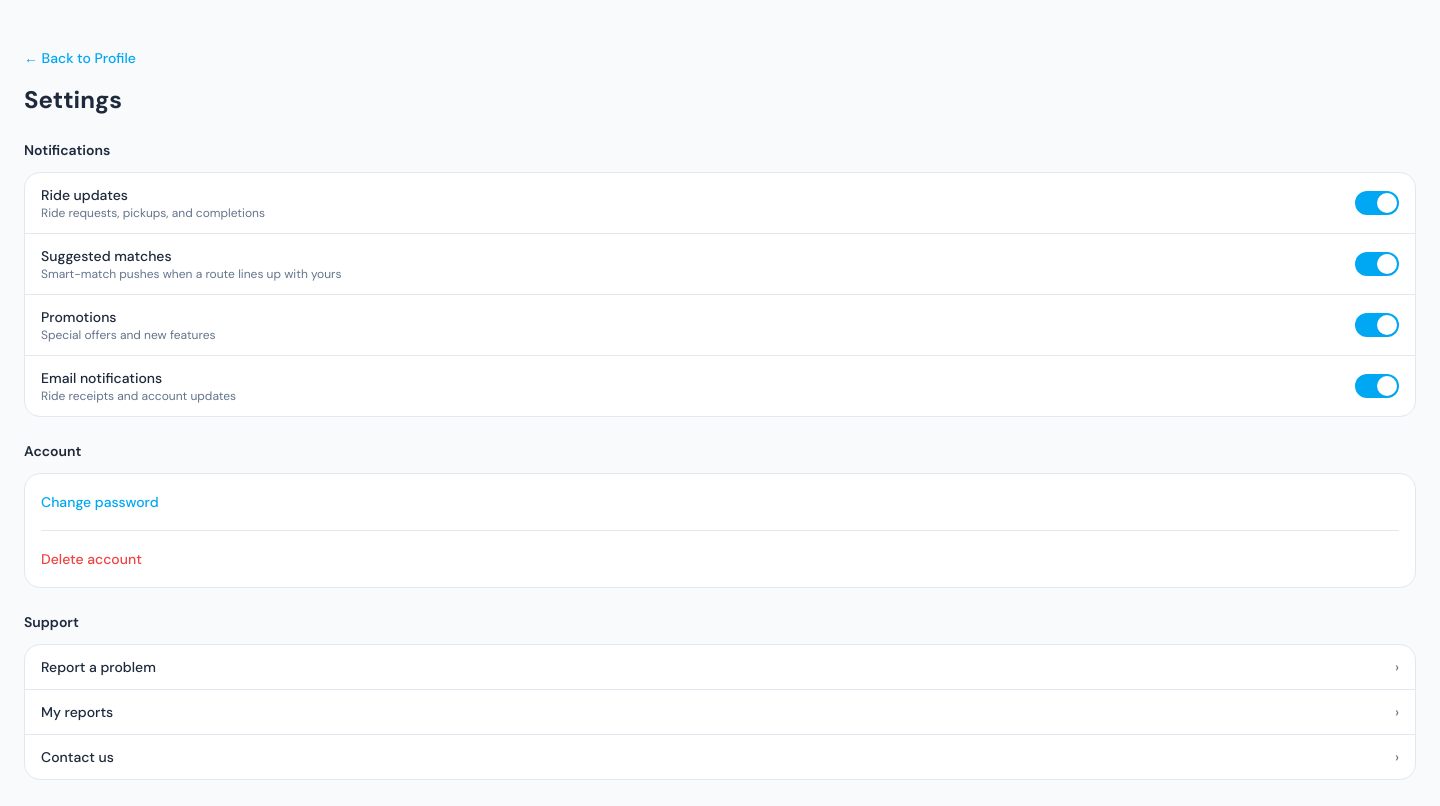
SettingsPage › shows change password form
What coordinates should you click on to do the following:
click the button with test id "change-password-button"
I would click on:
 (100, 502)
Its box is [41,492,159,512].
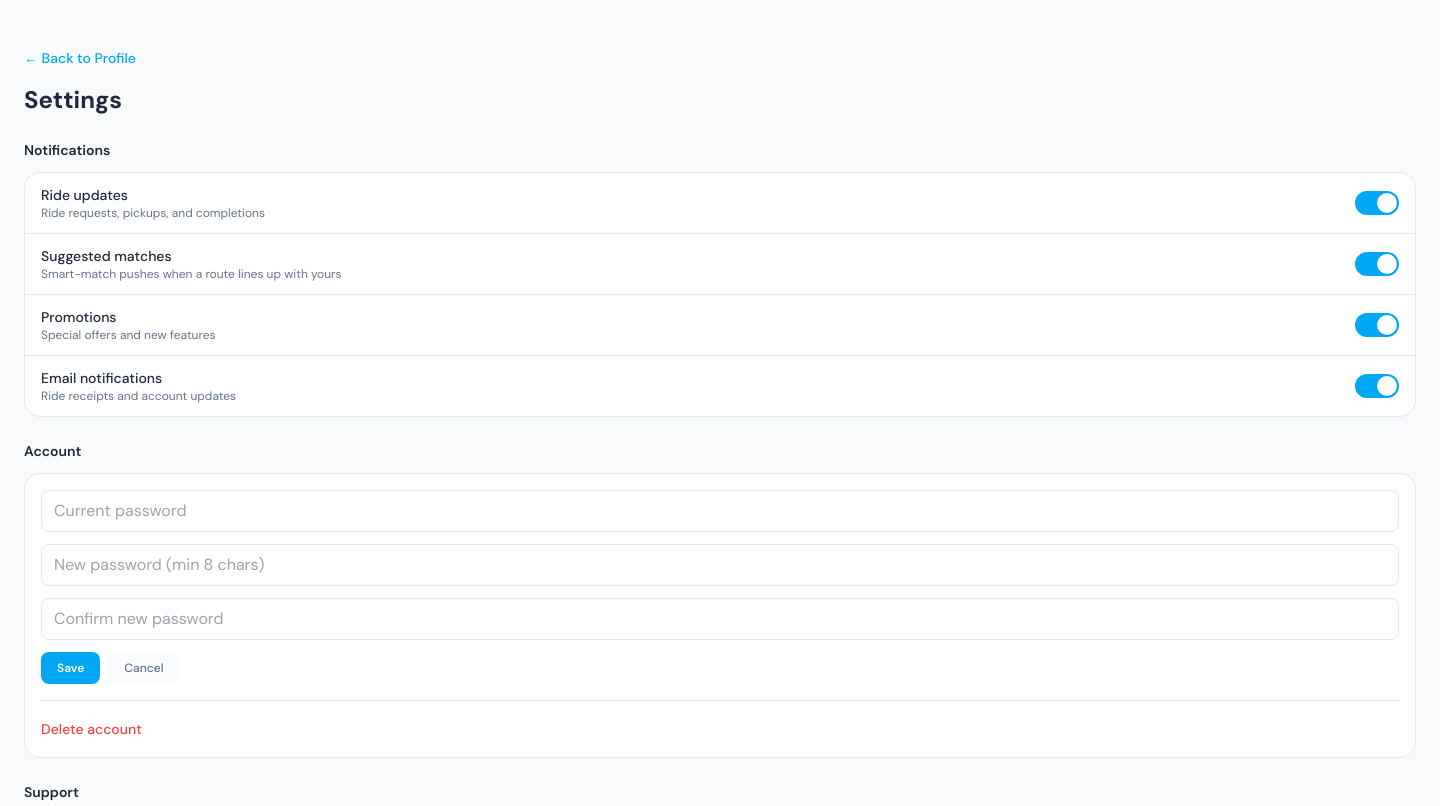
Check: the password field with test id "new-password-input" is shown, box [41,544,1399,586]
Check: the password field with test id "confirm-password-input" is shown, box [41,598,1399,640]
